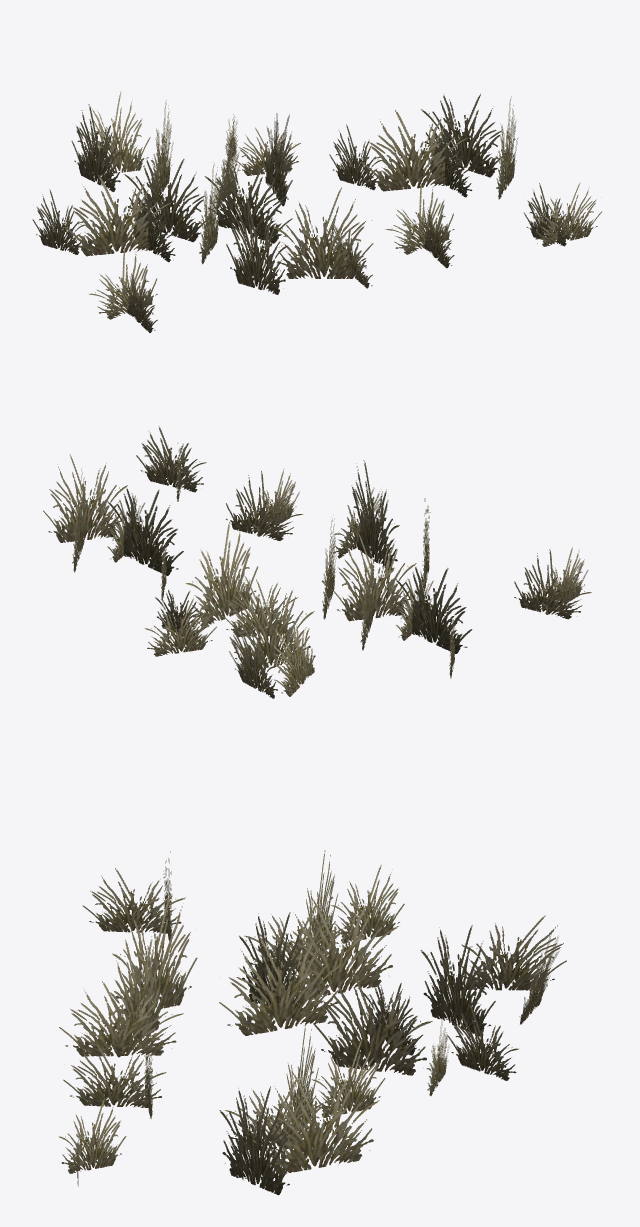
Rendered from DN_grass15d.FBX.
3 views of the same model, one above another, from view 1: azimuth 30°, elevation 25°; view 2: azimuth 150°, elevation 25°; view 3: azimuth 270°, elevation 25° (orthographic). The views are drawn at different scales.
Parts seen in each view (by area): view 1: DN_grass15d; view 2: DN_grass15d; view 3: DN_grass15d.
Boxes of the visible parts, x1,y1,x2,y2 form: DN_grass15d: (32,91,602,332); DN_grass15d: (43,426,591,698); DN_grass15d: (59,850,566,1195).
Bounding box in the file's own units: 258 × 66.1 × 207.
